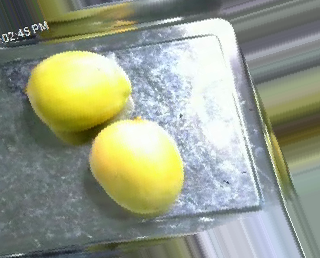Mango: (80, 110, 189, 219), (22, 46, 139, 134)
